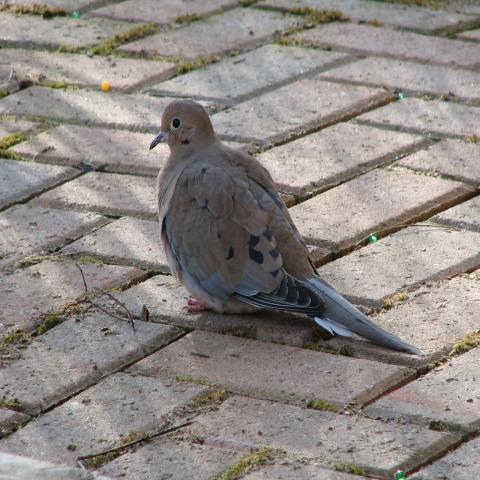bird: (146, 95, 425, 359)
